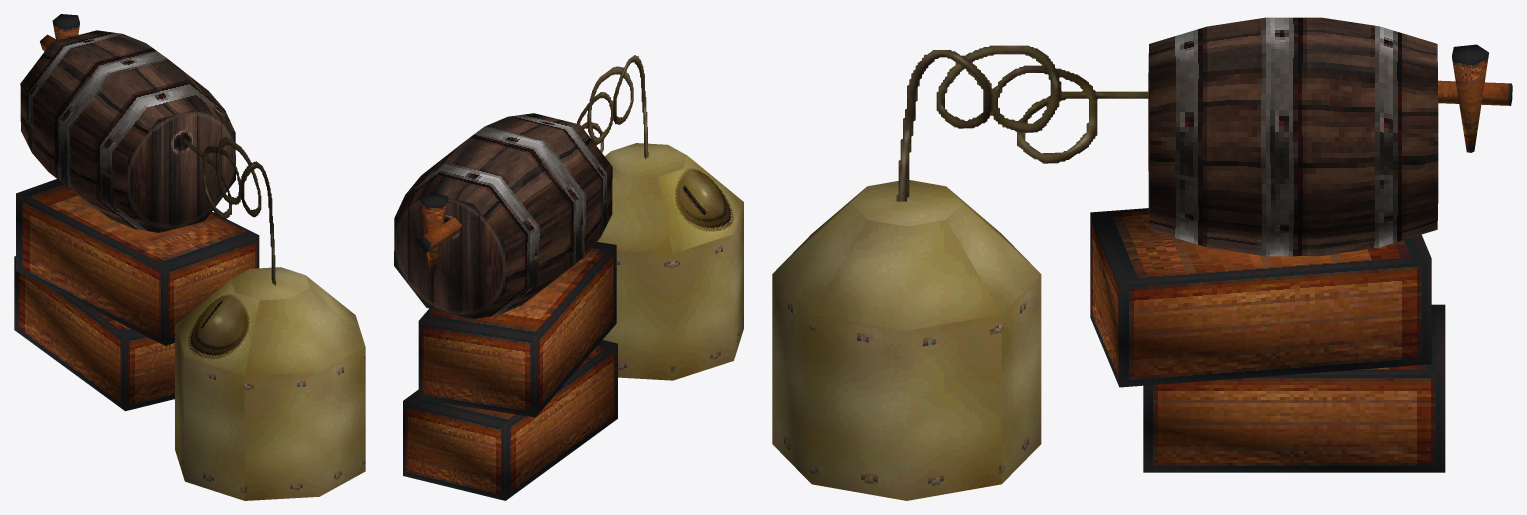
3 views of the same model, side by side, from view 1: azimuth 30°, elevation 25°; view 2: azimuth 150°, elevation 25°; view 3: azimuth 270°, elevation 25° (orthographic). The views are drawn at different scales.
Visible parts, largest first — view 1: it70; view 2: it70; view 3: it70.
Part boxes in pixels (box(x1,y1,x2,y2)): it70: box(14, 14, 365, 500); it70: box(394, 55, 743, 500); it70: box(772, 17, 1512, 500).
Size of the model in its own units: 5.07 by 8.92 by 13.96.
6 materials, 6 textured.
